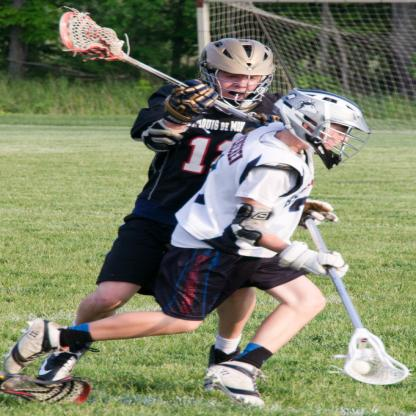Helmet: (274, 88, 374, 169), (194, 36, 276, 112)
